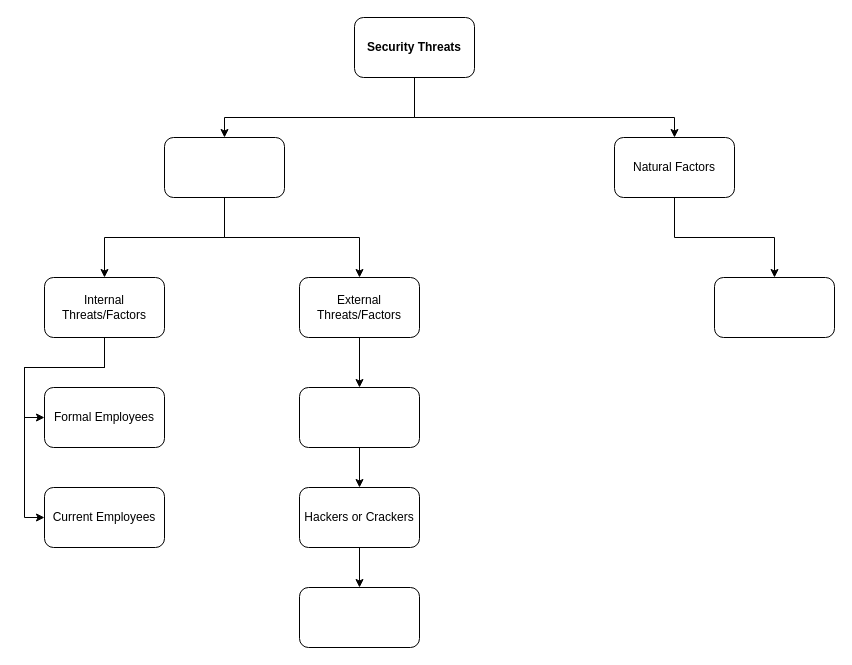
This 852x665 diagram has some shape labels left out. The centre of each missing label's shape, as x and y in pixels:
"Flood, Hurricanes, Tornado, Tsunami etc" goes at point 774,307.
"Human Factors" goes at point 224,167.
"Malicious Events" goes at point 359,417.
"Malware: Viruses, Worms, Trojans, Ransomware, Rootkit etc" goes at point 359,617.
